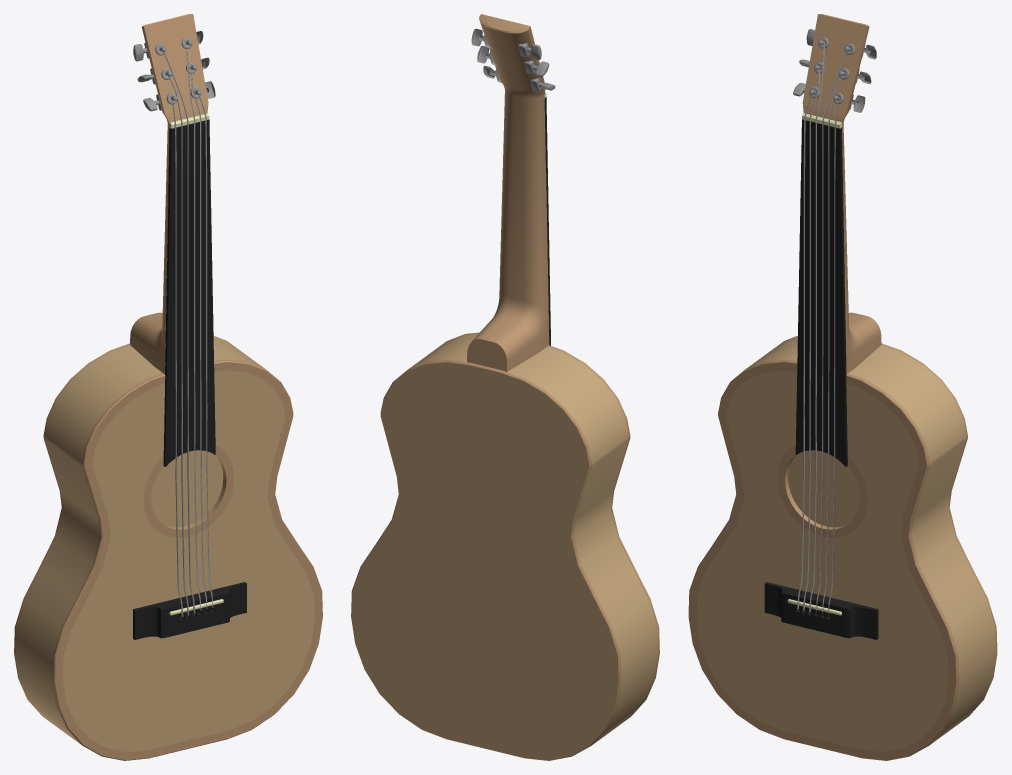
File: scene_Nn1l0aKjUm.glb
The picture shows the model from 3 angles, left to right: view 1: azimuth 30°, elevation 25°; view 2: azimuth 150°, elevation 25°; view 3: azimuth 330°, elevation 25°; orthographic projection.
Visible parts, largest first — view 1: Guitar; view 2: Guitar; view 3: Guitar.
Boxes of the visible parts, bbox=[...] form: Guitar: bbox=[14, 14, 322, 760]; Guitar: bbox=[351, 14, 659, 760]; Guitar: bbox=[688, 14, 997, 760].
Bounding box in the file's own units: 0.9831 × 2.49 × 0.3205.
